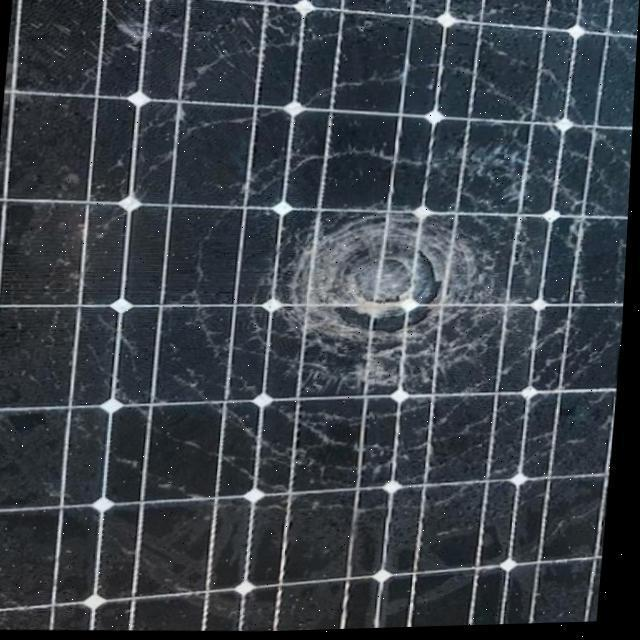Structural Damage: (138, 10, 630, 502), (255, 170, 516, 412), (80, 0, 348, 108)
